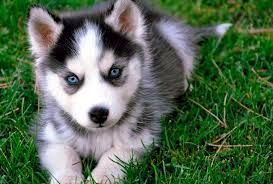husky: (24, 1, 157, 145)
